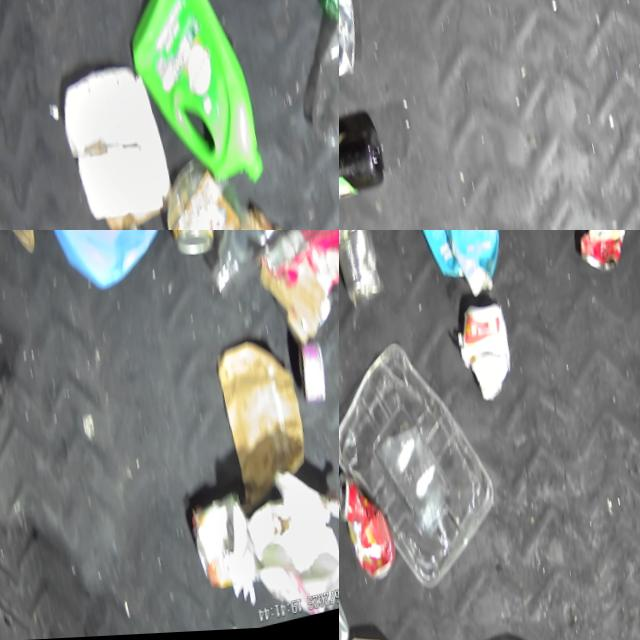can: (339, 465, 406, 592), (339, 230, 392, 317), (570, 230, 636, 286), (293, 339, 335, 412), (157, 230, 230, 266)
non_white_jug: (112, 0, 274, 214), (4, 230, 197, 306), (387, 230, 514, 313)
plastic_bottle: (188, 230, 326, 308), (288, 0, 339, 166)
